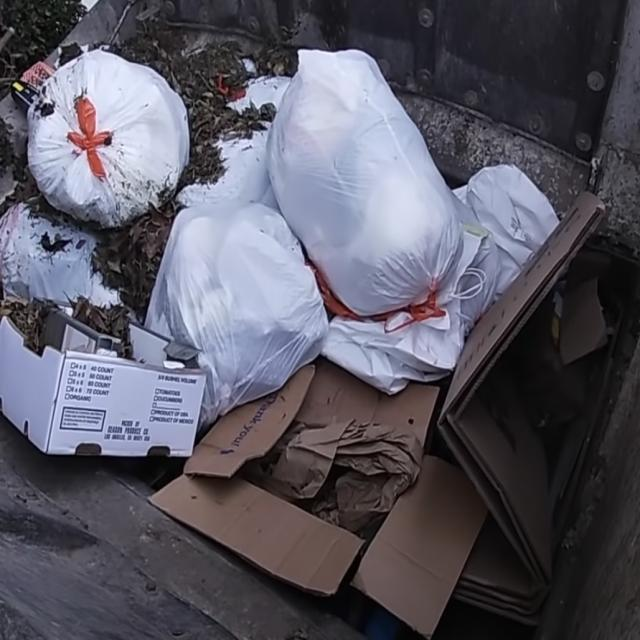bag: (256, 46, 491, 316), (153, 190, 334, 407), (14, 40, 204, 225)
cardboard: (169, 332, 567, 628), (447, 193, 640, 624), (0, 277, 221, 504)
